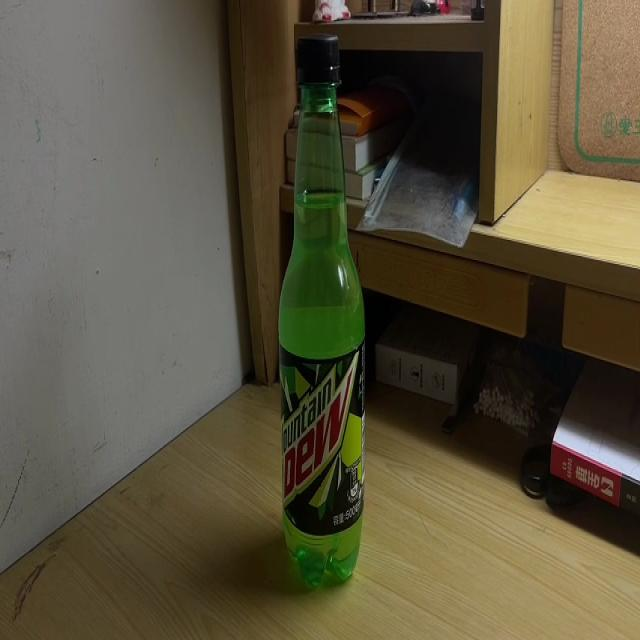Mountain-Dew: (278, 29, 364, 588)
